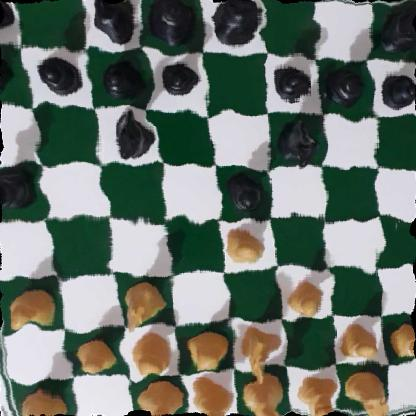black-bishop: (85, 0, 142, 36), (0, 167, 44, 211)
black-king: (203, 0, 265, 48)
black-knight: (273, 114, 317, 167), (107, 109, 153, 157)
black-pawn: (151, 51, 198, 101), (95, 52, 142, 101), (31, 52, 81, 97), (272, 55, 313, 101), (378, 65, 416, 114), (224, 170, 264, 213), (327, 62, 362, 107), (0, 49, 17, 93)
black-queen: (140, 0, 199, 42)
black-rook: (376, 0, 416, 53), (0, 0, 14, 35)
white-bishop: (293, 370, 338, 416), (133, 379, 185, 416)
white-king: (240, 371, 289, 416)
white-knight: (234, 321, 280, 384), (117, 275, 164, 327)
white-pawn: (3, 288, 60, 334), (184, 326, 227, 373), (68, 336, 120, 374), (337, 319, 381, 360), (220, 226, 266, 265), (131, 334, 172, 376), (283, 276, 323, 319), (393, 320, 416, 364)
white-queen: (186, 377, 235, 416)
white-rook: (342, 368, 391, 416), (6, 383, 70, 416)
